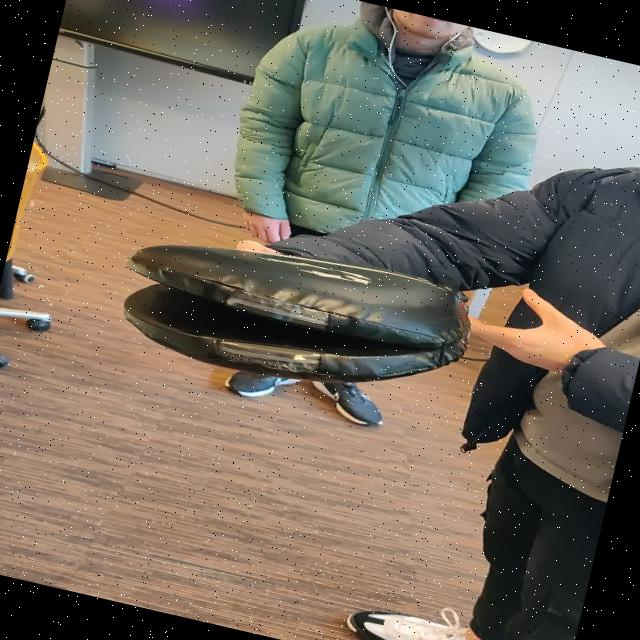paddle: (120, 244, 471, 383)
